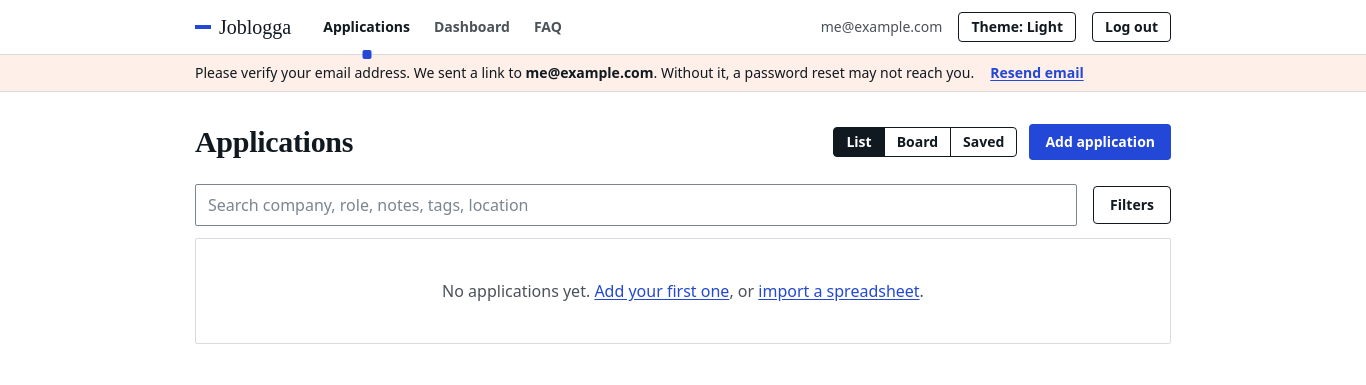
Test: the verify-your-email banner › resends on request and confirms
Click the button "Resend email". click: [1037, 73]
box: x1=990 y1=63 x2=1084 y2=83
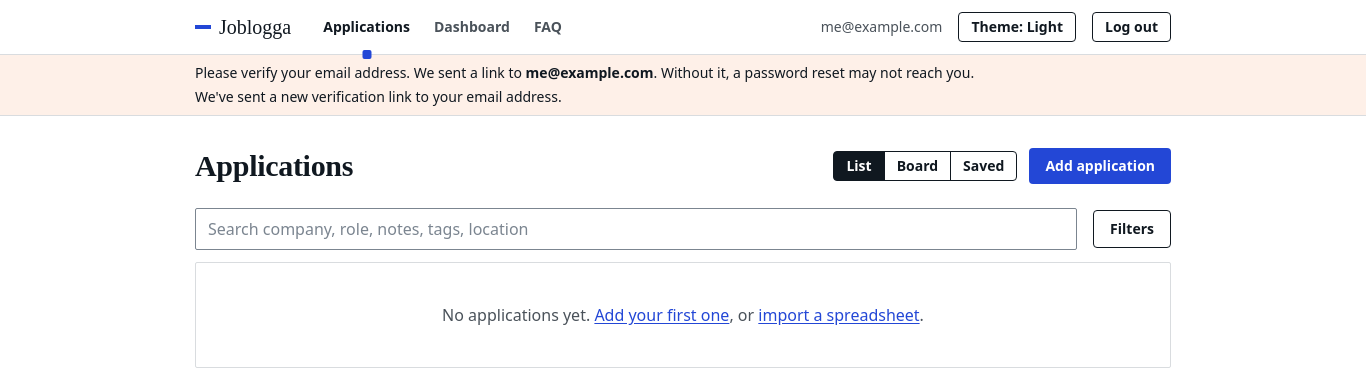
Expected: the message shows "We've sent a new verification link", x1=195 y1=87 x2=562 y2=106
Expected: the button "Resend email" is gone
